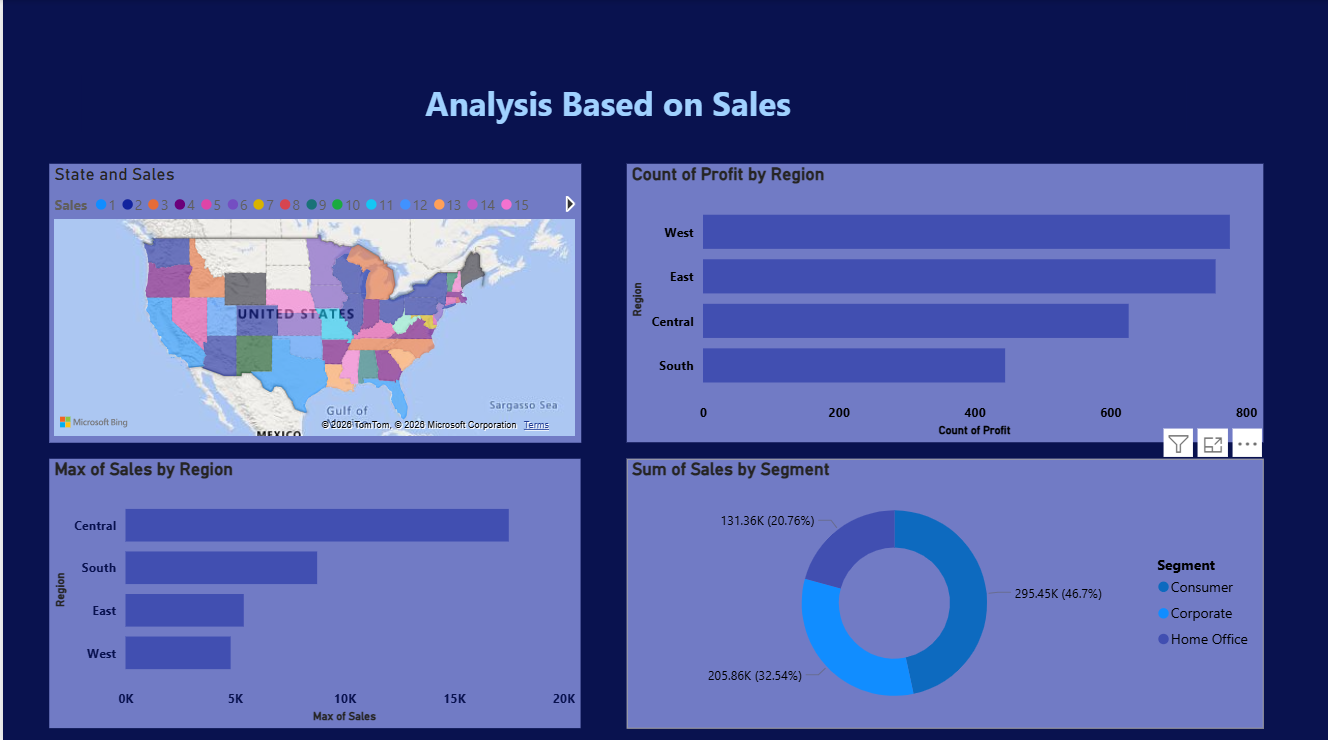

The page's visual inventory and layout, read from the dashboard file:
{"tool":"powerbi","page":{"name":"Page 1","canvas":[1280,720],"ordinal":2},"visuals":[{"type":"filledMap","fields":{"Category":["Orders.State"],"Series":["Orders.Sales"]},"box":[44.5,158.4,512.6,268.7],"z":0},{"type":"barChart","fields":{"Category":["Orders.Region"],"Y":["Max(Orders.Sales)"]},"box":[44.5,443.2,512.6,259.8],"z":1000},{"type":"barChart","fields":{"Category":["Orders.Region"],"Y":["Count(Orders.Profit)"]},"box":[601.6,158.4,614,268.7],"z":2000},{"type":"donutChart","fields":{"Category":["Orders.Segment"],"Y":["Sum(Orders.Sales)"]},"box":[601.6,443.2,614,259.8],"z":3000},{"type":"textbox","box":[76.5,73,1066.1,55.2],"z":4000}]}

Visuals, with their boxes in screenshot pixels (x1, y1, x2, y2), scaled from the page's 1280x720 canvas onto the 1328x740 screenshot:
filledMap - Orders.State x Orders.Sales: detection(46, 163, 578, 439)
barChart - Orders.Region x Max(Orders.Sales): detection(46, 456, 578, 723)
barChart - Orders.Region x Count(Orders.Profit): detection(624, 163, 1261, 439)
donutChart - Orders.Segment x Sum(Orders.Sales): detection(624, 456, 1261, 723)
textbox: detection(79, 75, 1185, 132)
